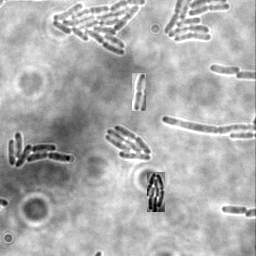Dividing: (161, 114, 255, 133), (132, 73, 146, 111), (221, 204, 248, 215)
Microcolony: (51, 1, 147, 56), (162, 1, 231, 44), (8, 130, 72, 167), (106, 124, 153, 160), (147, 172, 165, 212), (208, 63, 240, 74)
